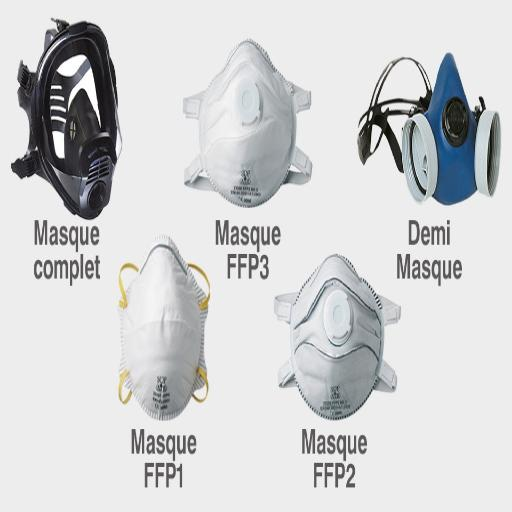mask: (171, 6, 327, 220), (4, 3, 137, 218), (375, 10, 508, 215), (276, 250, 393, 430), (118, 233, 214, 420)
